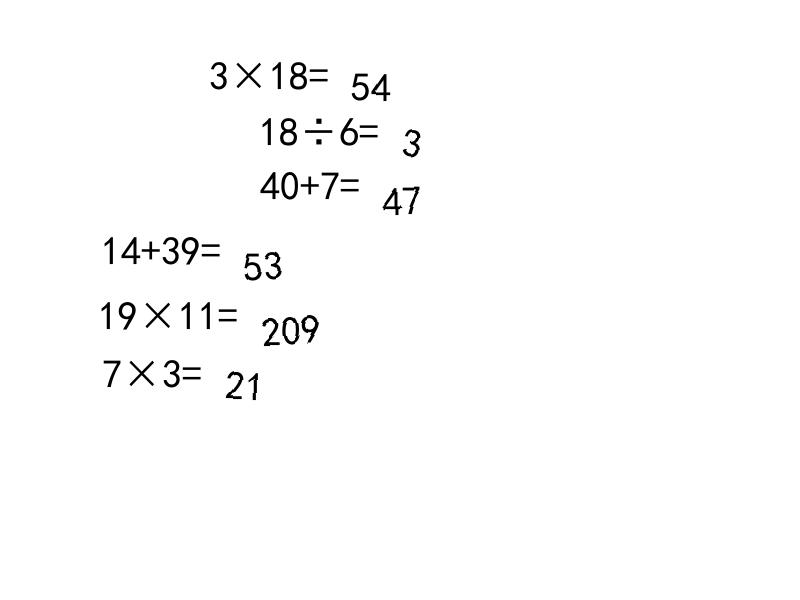+: (300, 165, 320, 194), (141, 230, 161, 259)
0: (280, 165, 300, 194), (268, 295, 288, 323)
1: (269, 55, 289, 84), (101, 230, 121, 259), (232, 353, 252, 382), (259, 111, 279, 139), (98, 295, 118, 323), (178, 295, 198, 323), (198, 295, 218, 323)
2: (212, 353, 232, 382), (248, 295, 268, 323)
3: (209, 55, 229, 84), (161, 230, 181, 259), (251, 230, 271, 259), (162, 353, 182, 382), (389, 111, 409, 139)
4: (359, 55, 379, 84), (260, 165, 280, 194), (370, 165, 390, 194), (121, 230, 141, 259)
5: (339, 55, 359, 84), (231, 230, 251, 259)
6: (339, 111, 359, 139)
7: (320, 165, 340, 194), (390, 165, 410, 194), (102, 353, 122, 382)
8: (289, 55, 309, 84), (279, 111, 299, 139)
9: (181, 230, 201, 259), (118, 295, 138, 323), (288, 295, 308, 323)
=: (309, 55, 329, 84), (340, 165, 360, 194), (201, 230, 221, 259), (182, 353, 202, 382), (359, 111, 379, 139), (218, 295, 238, 323)
×: (229, 55, 269, 84), (122, 353, 162, 382), (138, 295, 178, 323)
÷: (299, 111, 339, 139)
